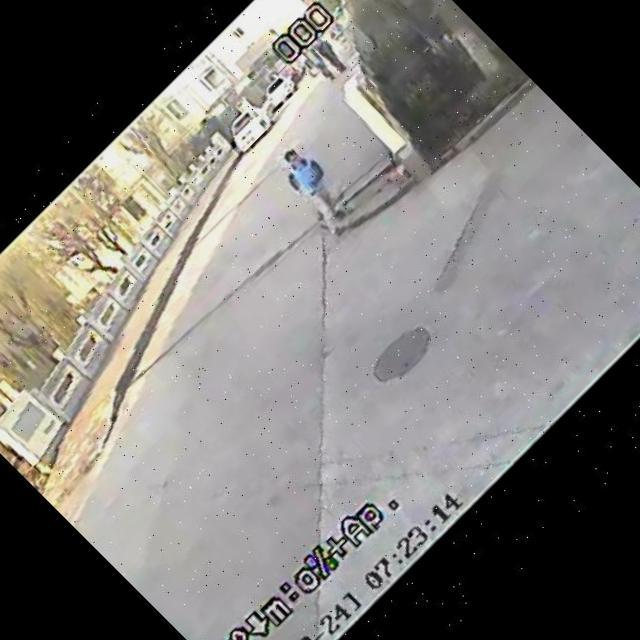person: (252, 126, 368, 240)
